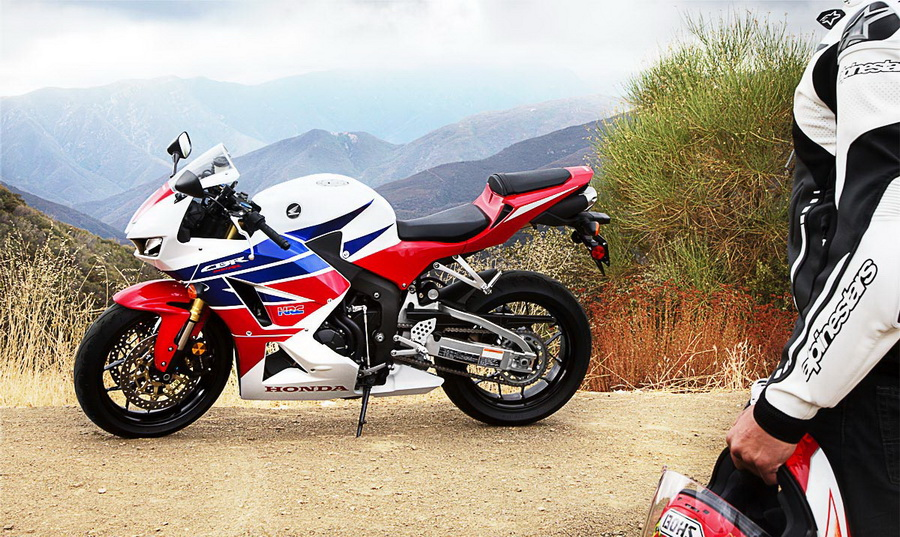helmet: (636, 417, 858, 537)
motorcycle: (72, 132, 616, 439)
